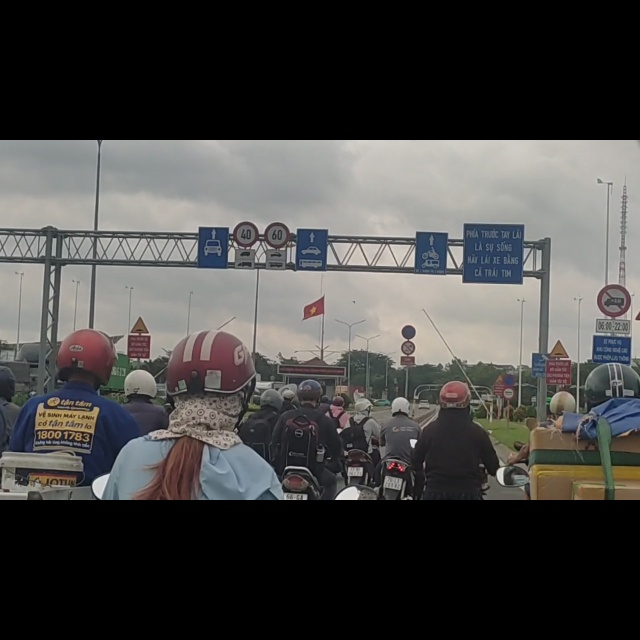bien_chi_dan: (597, 254, 631, 314), (264, 146, 290, 192), (234, 145, 259, 190), (530, 377, 547, 423), (128, 313, 152, 345), (549, 356, 570, 389), (402, 328, 416, 353), (401, 358, 415, 383), (504, 416, 515, 439), (503, 441, 515, 461), (494, 416, 503, 436)
